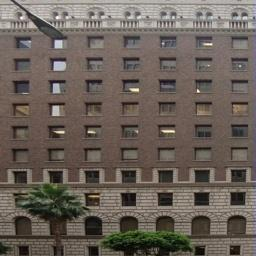building: (0, 0, 256, 239)
